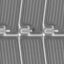dust: (32, 27, 35, 32)
